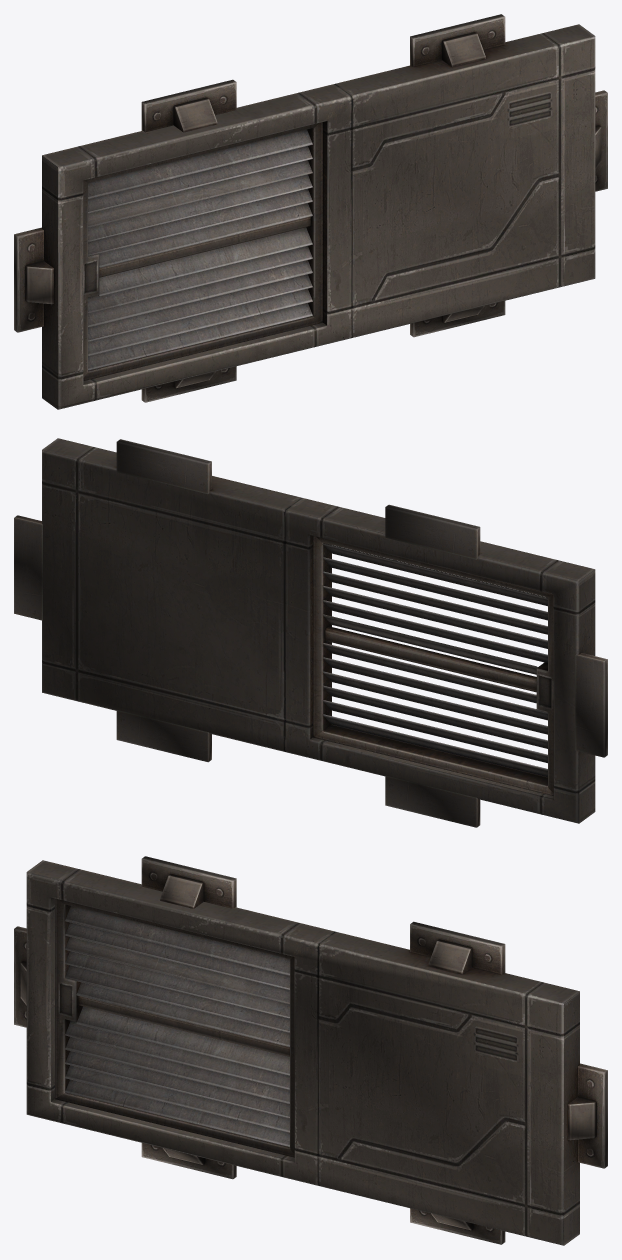
File: door_hatch_slide_ventilation.dae
The picture shows the model from 3 angles, top to bottom: view 1: azimuth 30°, elevation 25°; view 2: azimuth 150°, elevation 25°; view 3: azimuth 330°, elevation 25°; orthographic projection.
Visible parts, largest first — view 1: door_hatch_slide_ventilation, Mesh; view 2: door_hatch_slide_ventilation, Mesh; view 3: door_hatch_slide_ventilation, Mesh.
Boxes of the visible parts, x1,y1,x2,y2 form: door_hatch_slide_ventilation: (14,14,607,409); Mesh: (83,122,322,380); door_hatch_slide_ventilation: (14,438,607,827); Mesh: (313,536,553,795); door_hatch_slide_ventilation: (14,856,607,1245); Mesh: (55,898,294,1157).
Bounding box in the file's own units: 3.02 × 1.46 × 0.166.
